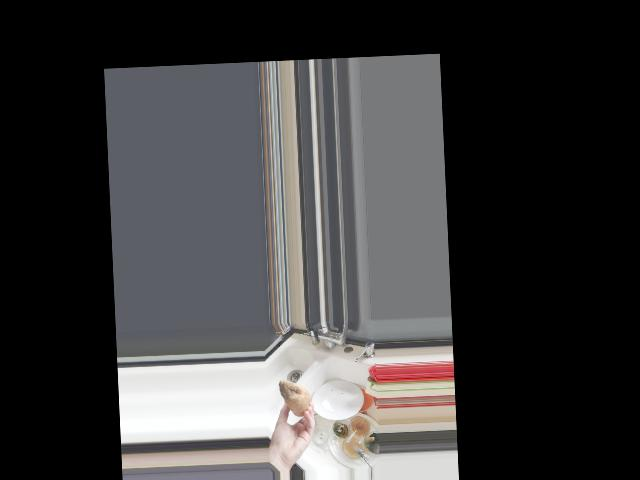sweet_potato: (275, 378, 312, 417)
